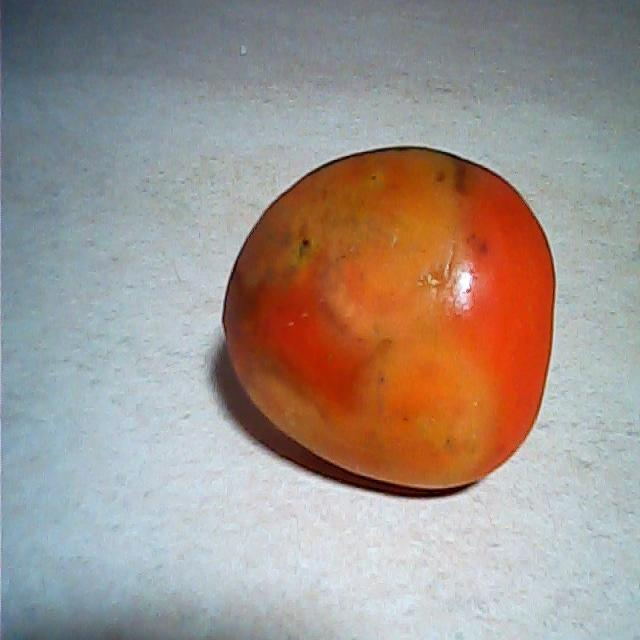defectuoso: (219, 140, 561, 490)
